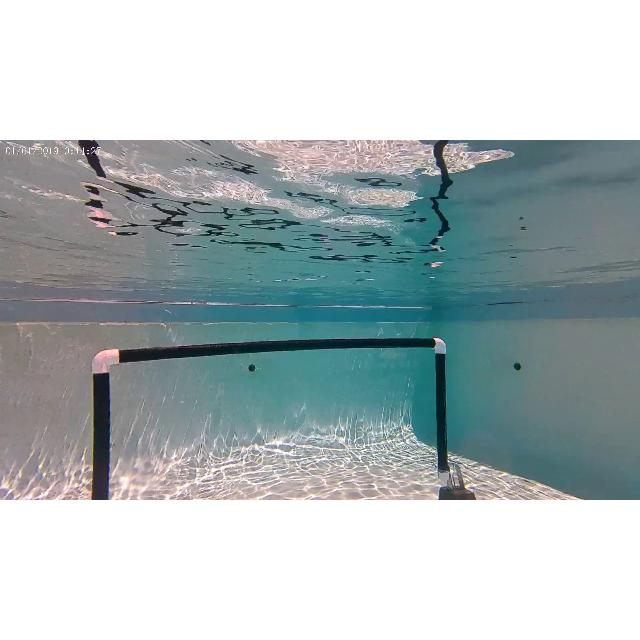prequal gate: (92, 338, 450, 500)
prequal gate leg l: (83, 346, 125, 500)
prequal gate leg r: (425, 334, 479, 501)
